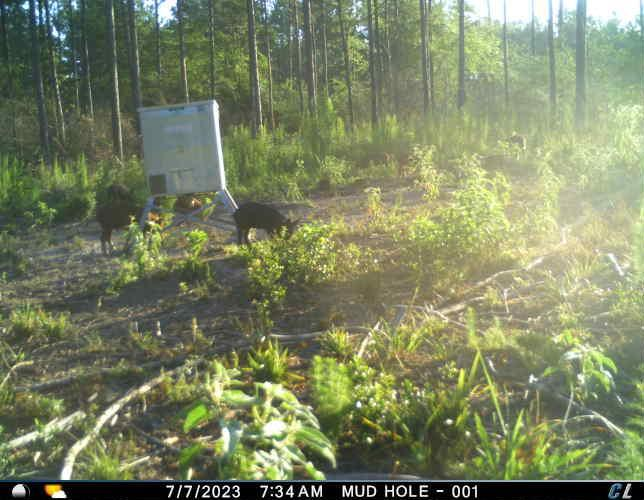Hog: (89, 199, 167, 258), (231, 202, 306, 251)
